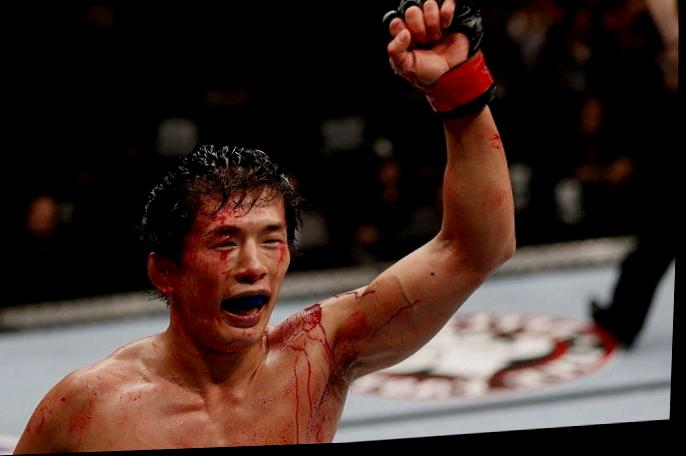Fire: (268, 305, 359, 447), (148, 198, 241, 335)
